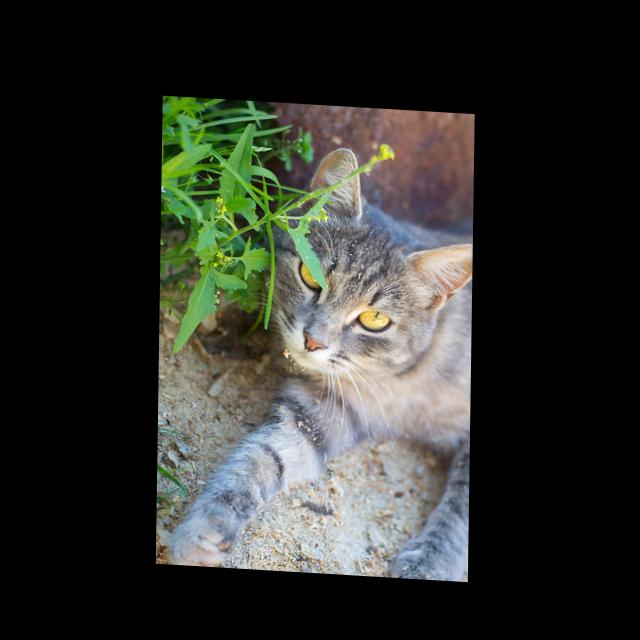animals: (172, 134, 475, 576)
